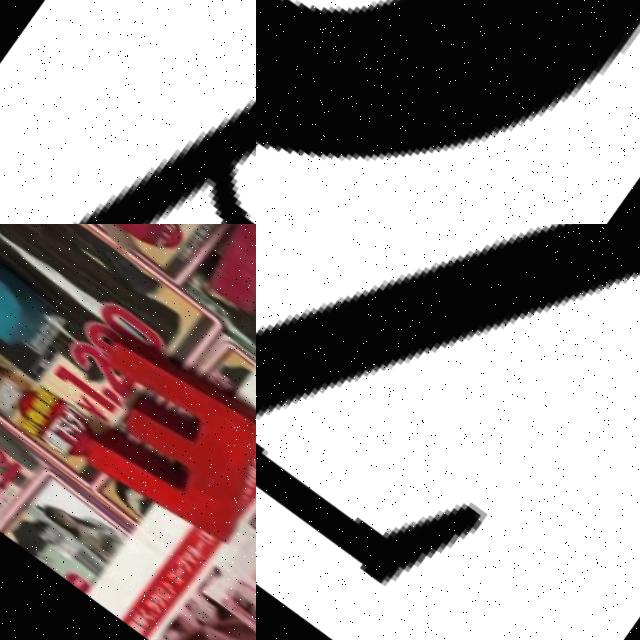7: (256, 224, 640, 640)
C: (256, 0, 640, 224)
D: (0, 0, 256, 224)
E: (30, 321, 256, 561)
U: (63, 224, 256, 322)
